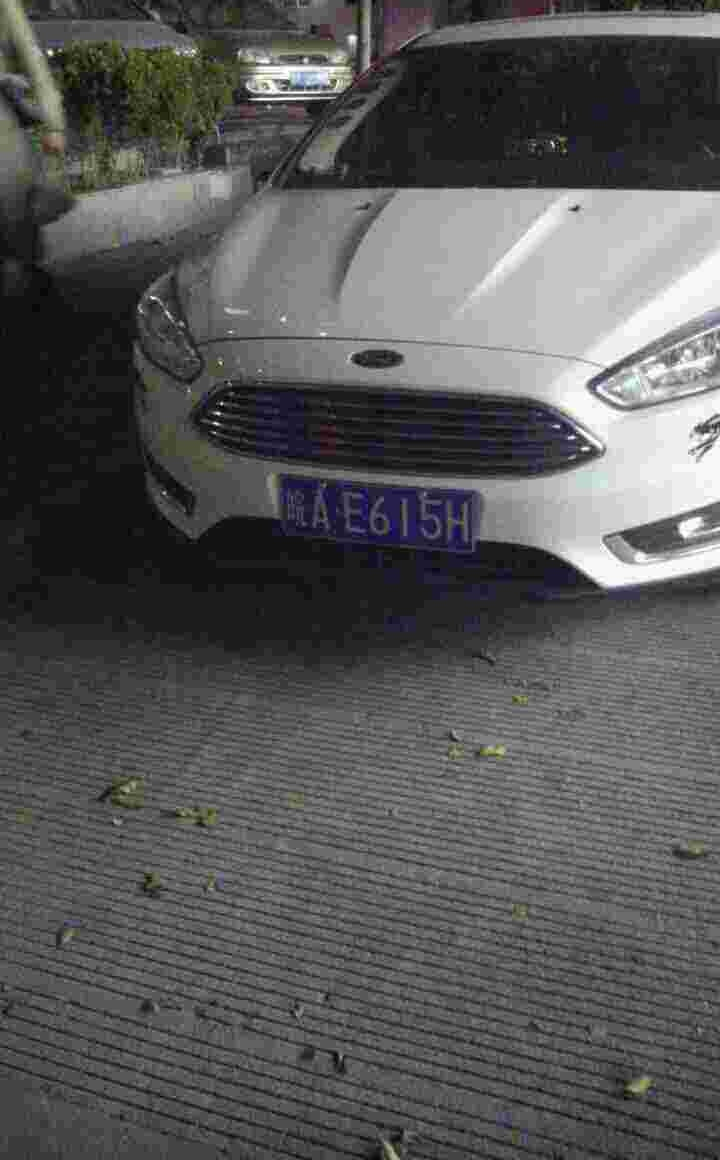license_plate: (262, 470, 475, 557)
